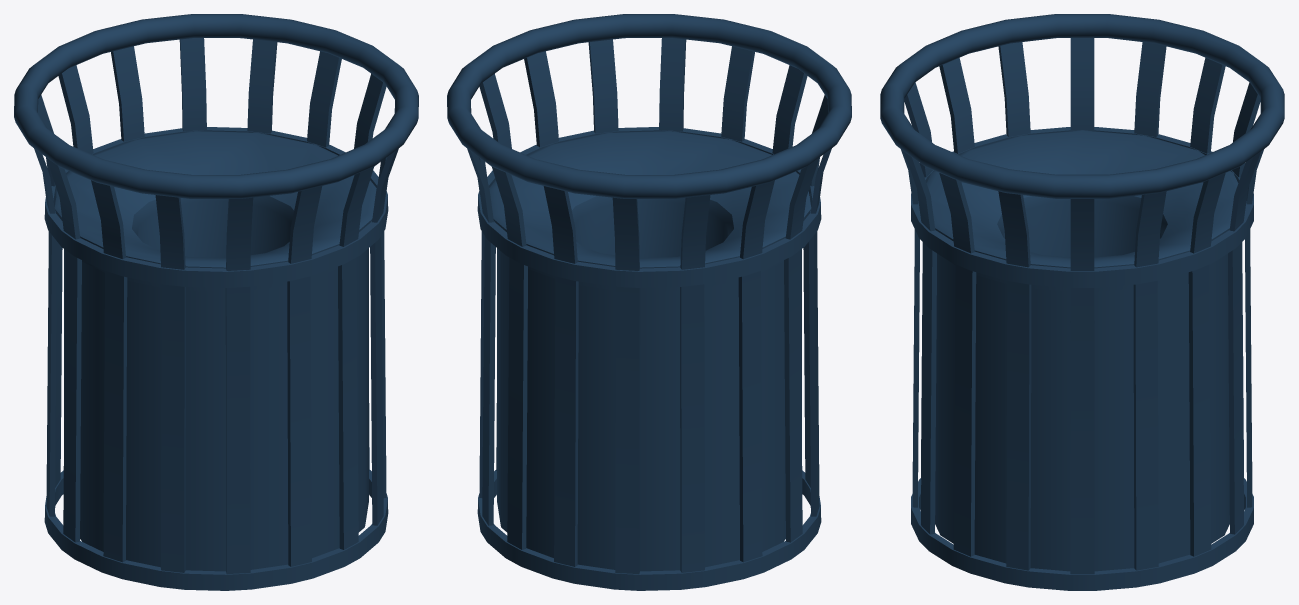
File: M〕ltonne.fbx
3 renders of one model, left to right at view 1: azimuth 30°, elevation 25°; view 2: azimuth 150°, elevation 25°; view 3: azimuth 270°, elevation 25°, orthographic.
Visible parts, largest first — view 1: Mülleimer.003, Mülleimer.004, Mülleimer.014, Mülleimer.015, Mülleimer.013, Mülleimer.002, Mülleimer.016, Mülleimer.001, Mülleimer.012, Mülleimer.017, Mülleimer.011, Mülleimer.018 (+8 smaller); view 2: Mülleimer.003, Mülleimer.004, Mülleimer.020, Mülleimer.019, Mülleimer.005, Mülleimer.002, Mülleimer.018, Mülleimer.001, Mülleimer.006, Mülleimer.017, Mülleimer.007, Mülleimer.016 (+8 smaller); view 3: Mülleimer.003, Mülleimer.004, Mülleimer.009, Mülleimer.008, Mülleimer.010, Mülleimer.002, Mülleimer.007, Mülleimer.011, Mülleimer.001, Mülleimer.006, Mülleimer.012, Mülleimer.016 (+8 smaller).
Boxes of the visible parts, x1,y1,x2,y2 form: Mülleimer.003: [54, 131, 376, 571]; Mülleimer.004: [14, 14, 418, 198]; Mülleimer.014: [225, 197, 253, 573]; Mülleimer.015: [155, 195, 185, 572]; Mülleimer.013: [287, 186, 322, 566]; Mülleimer.002: [44, 127, 388, 287]; Mülleimer.016: [91, 180, 127, 562]; Mülleimer.001: [44, 470, 388, 590]; Mülleimer.012: [338, 167, 373, 549]; Mülleimer.017: [46, 157, 81, 542]; Mülleimer.011: [370, 148, 398, 525]; Mülleimer.018: [34, 148, 57, 516]; Mülleimer.003: [489, 131, 811, 571]; Mülleimer.004: [447, 14, 851, 198]; Mülleimer.020: [612, 197, 640, 573]; Mülleimer.019: [680, 195, 710, 572]; Mülleimer.005: [543, 186, 578, 566]; Mülleimer.002: [477, 127, 821, 287]; Mülleimer.018: [738, 180, 774, 562]; Mülleimer.001: [477, 470, 821, 590]; Mülleimer.006: [492, 167, 527, 549]; Mülleimer.017: [784, 157, 819, 542]; Mülleimer.007: [467, 148, 495, 525]; Mülleimer.016: [808, 148, 831, 516]; Mülleimer.003: [926, 130, 1238, 571]; Mülleimer.004: [880, 14, 1284, 198]; Mülleimer.009: [1070, 199, 1094, 574]; Mülleimer.008: [1133, 191, 1166, 570]; Mülleimer.010: [998, 191, 1031, 570]; Mülleimer.002: [911, 127, 1253, 287]; Mülleimer.007: [1188, 173, 1225, 556]; Mülleimer.011: [939, 173, 976, 556]; Mülleimer.001: [911, 478, 1253, 590]; Mülleimer.006: [1228, 151, 1260, 534]; Mülleimer.012: [904, 151, 936, 534]; Mülleimer.016: [998, 42, 1030, 136].
Bounding box in the file's own units: 71.54 × 82.57 × 71.54.
